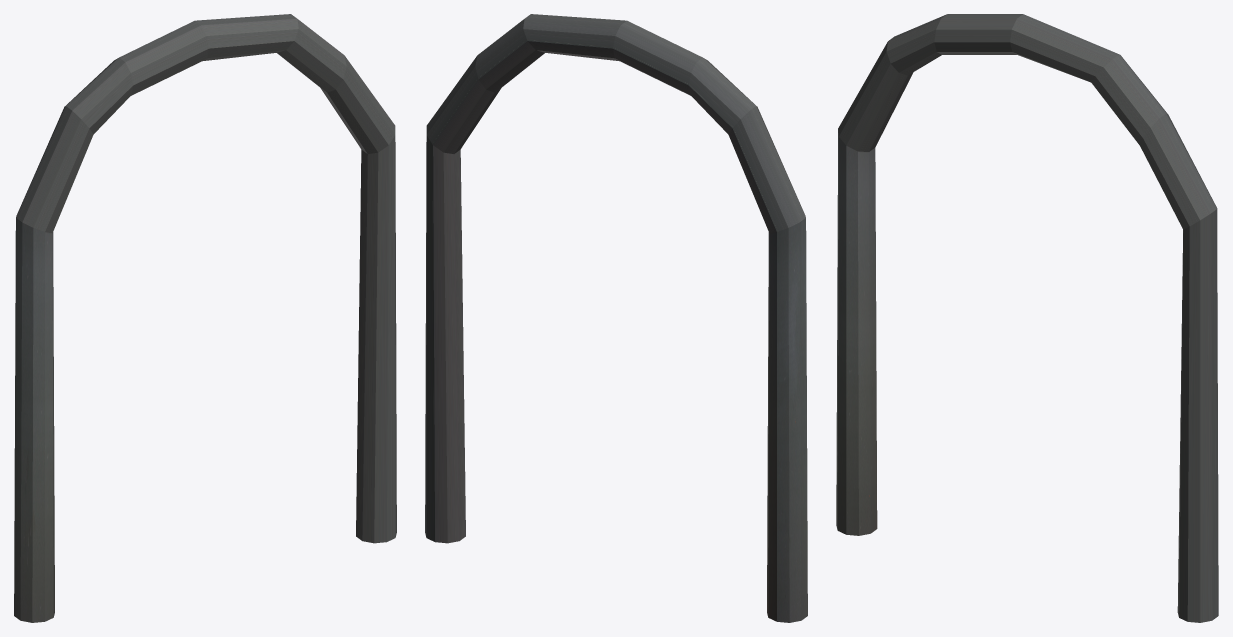
File: metal_guard.fbx
3 renders of one model, left to right at view 1: azimuth 30°, elevation 25°; view 2: azimuth 150°, elevation 25°; view 3: azimuth 330°, elevation 25°, orthographic.
Visible parts, largest first — view 1: Cylinder; view 2: Cylinder; view 3: Cylinder.
Boxes of the visible parts, x1,y1,x2,y2 form: Cylinder: [14, 14, 396, 622]; Cylinder: [425, 14, 807, 622]; Cylinder: [836, 14, 1218, 622].
Size of the model in its own units: 229 by 323 by 23.36.
